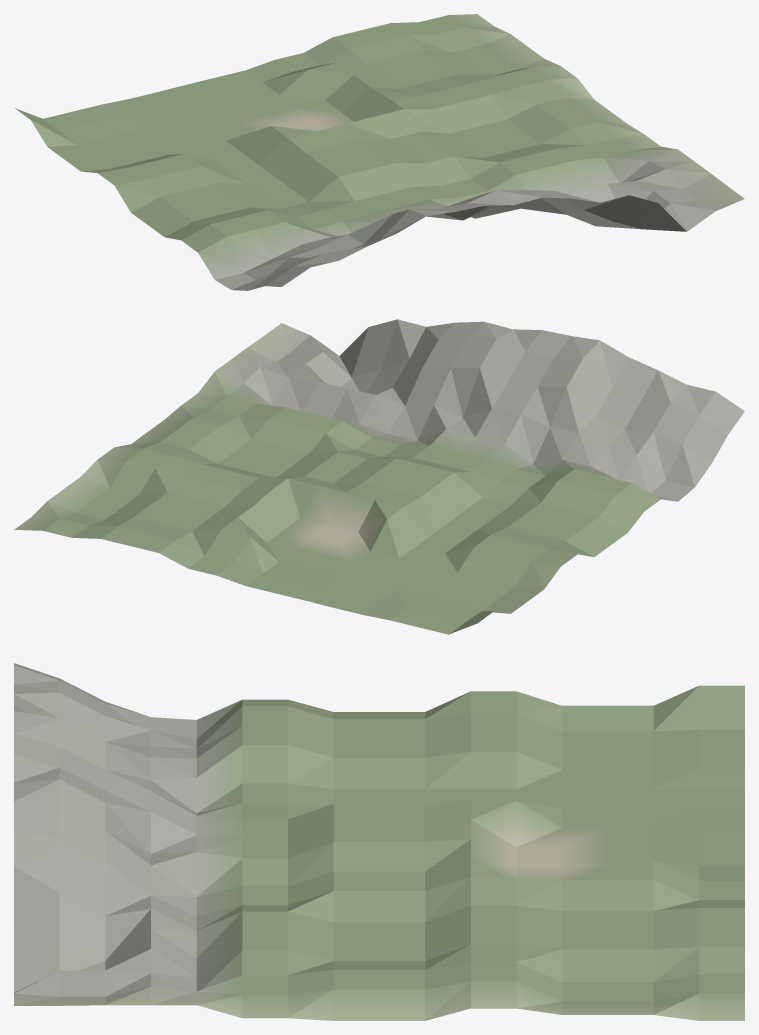
The picture shows the model from 3 angles, top to bottom: view 1: azimuth 30°, elevation 25°; view 2: azimuth 150°, elevation 25°; view 3: azimuth 270°, elevation 25°; orthographic projection. The views are drawn at different scales.
Size of the model in its own units: 32 by 5.54 by 32.
